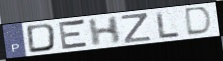D: (26, 23, 58, 55), (185, 6, 214, 38)
E: (57, 18, 90, 51)
H: (87, 15, 123, 48)
L: (155, 10, 182, 40)
Z: (120, 12, 153, 44)
